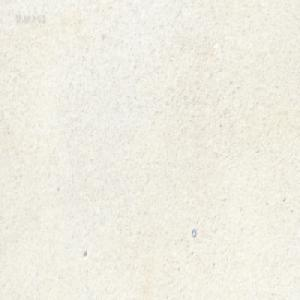Washer: (191, 228, 196, 238)
